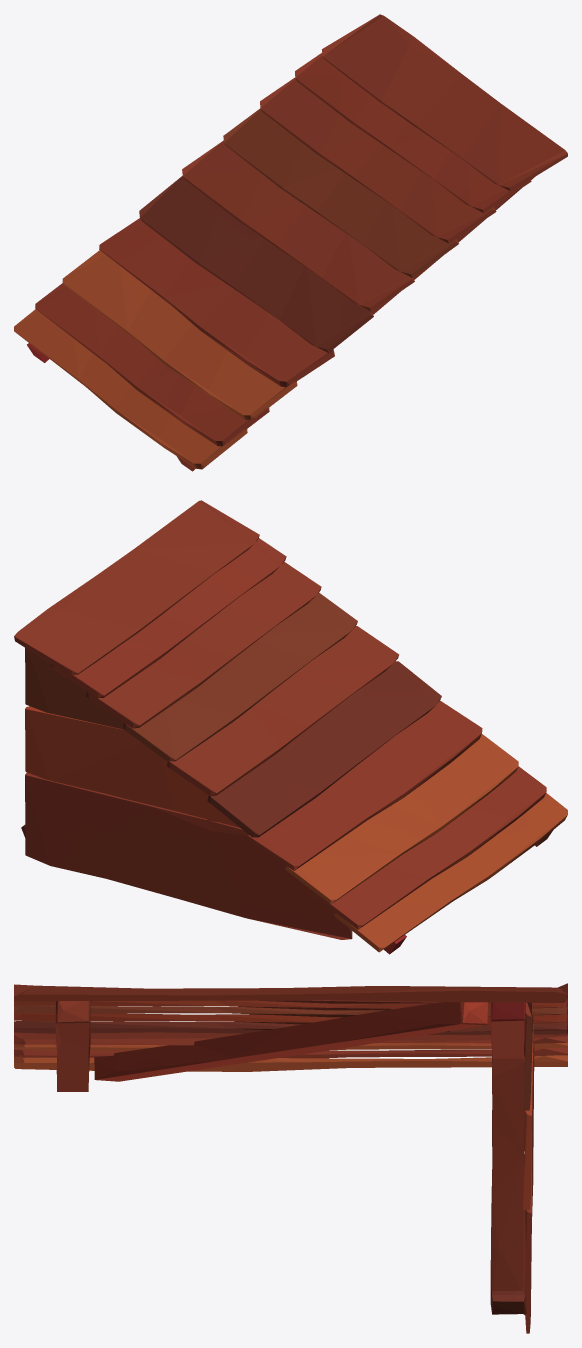
Rendered from Roof angle.fbx.
3 views of the same model, one above another, from view 1: azimuth 30°, elevation 25°; view 2: azimuth 150°, elevation 25°; view 3: azimuth 270°, elevation 25° (orthographic). The views are drawn at different scales.
Visible parts, largest first — view 1: Roof angle; view 2: Roof angle; view 3: Roof angle.
Boxes of the visible parts, box(x1,y1,x2,y2) form: Roof angle: box(14, 14, 567, 471); Roof angle: box(14, 500, 567, 954); Roof angle: box(14, 983, 567, 1333).
Bounding box in the file's own units: 3.51 × 2.16 × 3.
